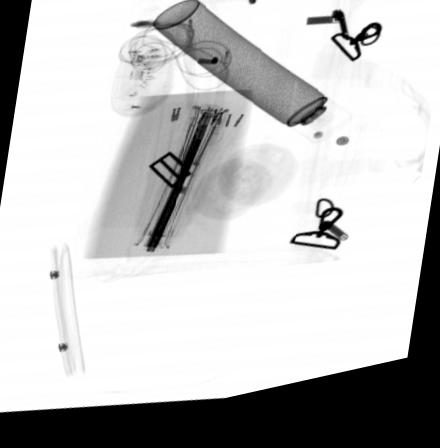Sprayer: (153, 4, 356, 157)
